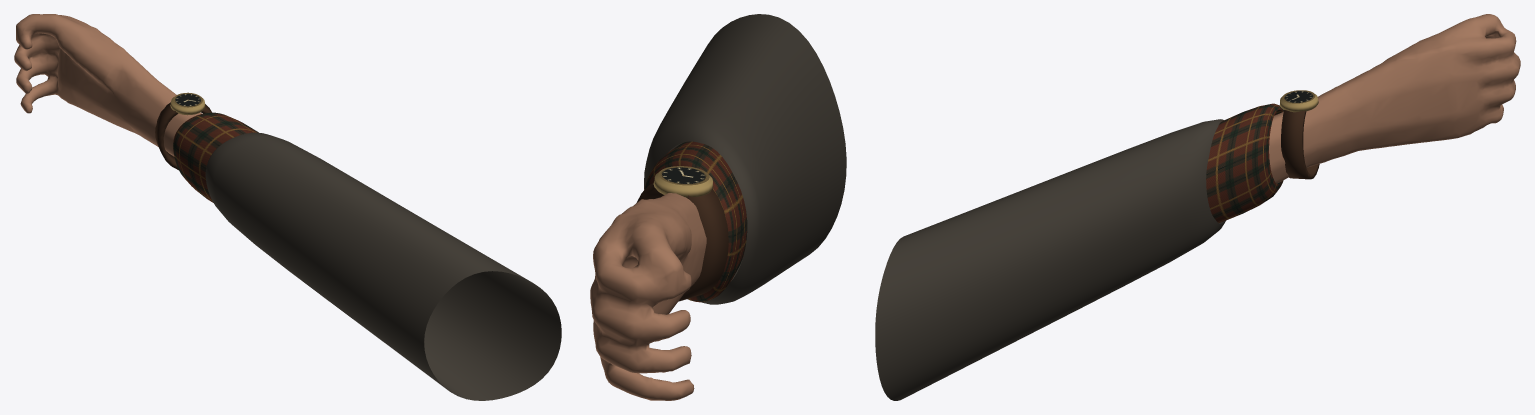
The model's file is player_hand.glb.
3 renders of one model, left to right at view 1: azimuth 30°, elevation 25°; view 2: azimuth 150°, elevation 25°; view 3: azimuth 270°, elevation 25°, orthographic. The views are drawn at different scales.
Visible parts, largest first — view 1: JacketForearm, RightHand, FlannelCuff, WatchStrap; view 2: JacketForearm, RightHand, FlannelCuff, WatchStrap, WatchDial, WatchCase; view 3: JacketForearm, RightHand, FlannelCuff, WatchStrap.
Part boxes in pixels (<box>): JacketForearm: <box>205,132,561,400</box>; RightHand: <box>14,14,202,156</box>; FlannelCuff: <box>173,112,258,202</box>; WatchStrap: <box>155,102,211,170</box>; JacketForearm: <box>644,14,846,304</box>; RightHand: <box>590,193,706,400</box>; FlannelCuff: <box>644,141,747,302</box>; WatchStrap: <box>636,183,728,301</box>; WatchDial: <box>658,166,709,185</box>; WatchCase: <box>653,172,713,197</box>; JacketForearm: <box>875,119,1225,400</box>; RightHand: <box>1269,14,1520,183</box>; FlannelCuff: <box>1206,103,1283,222</box>; WatchStrap: <box>1281,110,1319,179</box>.
Bounding box in the file's own units: 0.2729 × 0.2378 × 0.5075.
6 materials, 2 textured.
